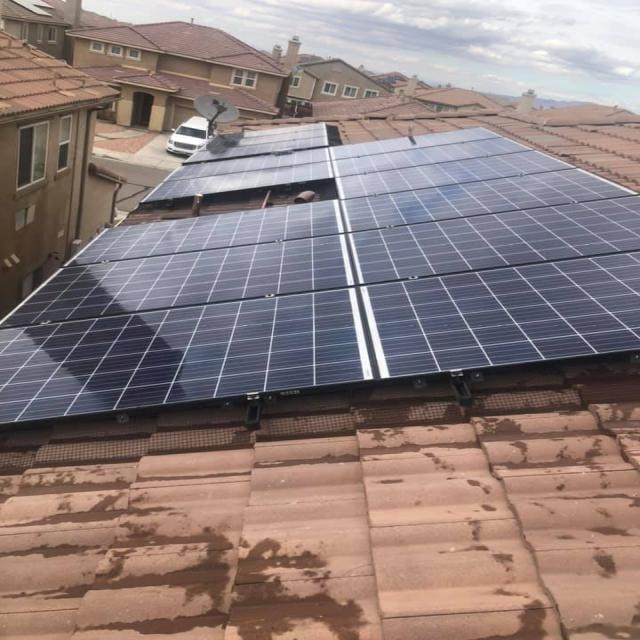clean-solar-panel: (3, 129, 638, 424)
